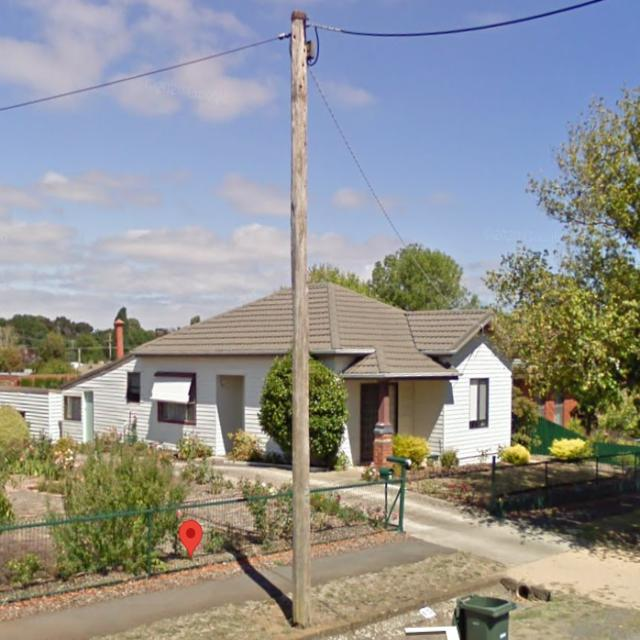timber-pole: (289, 10, 313, 630)
